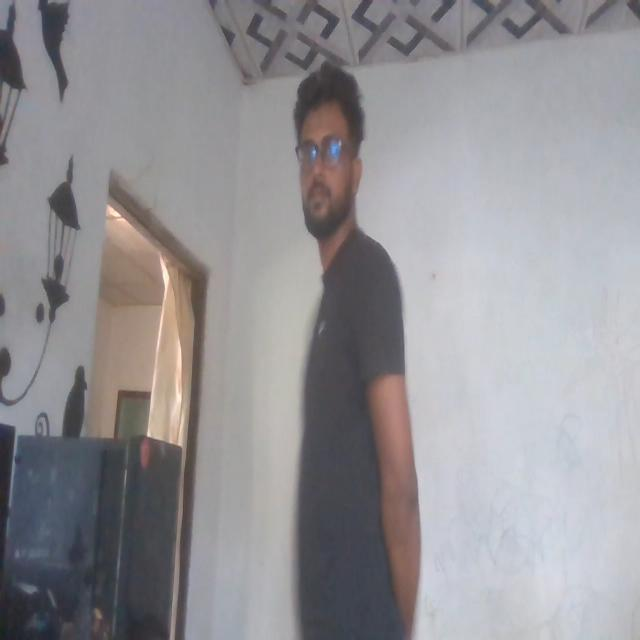Person: (274, 41, 424, 640)
